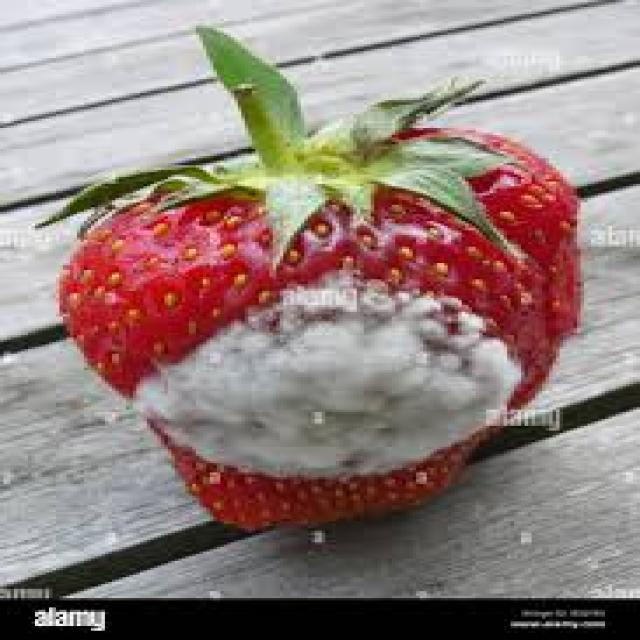Moho gris: (29, 134, 616, 559)
